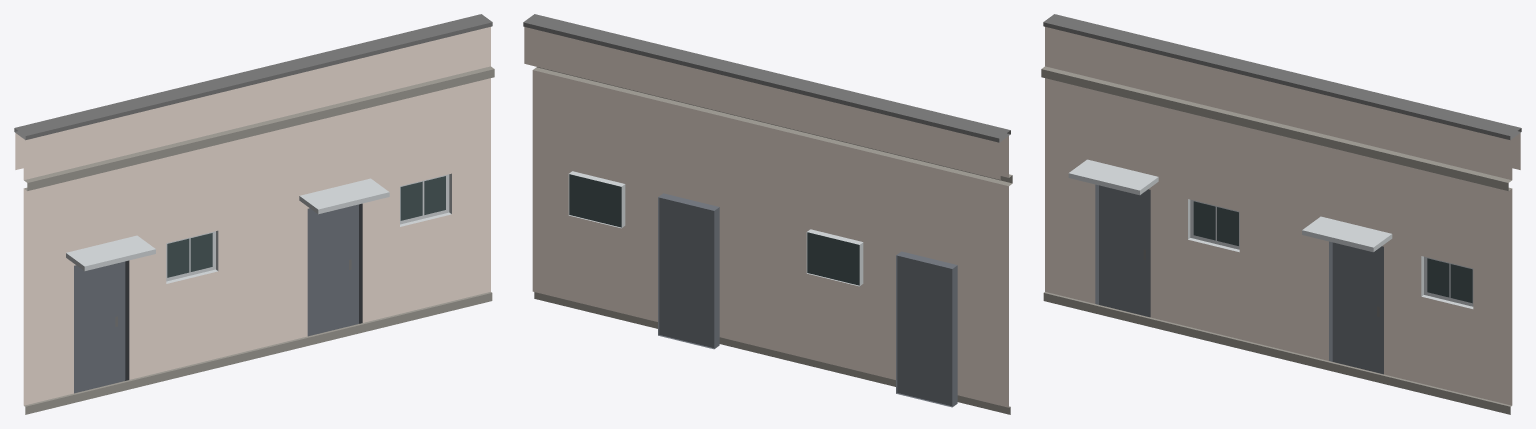
3 views of the same model, side by side, from view 1: azimuth 30°, elevation 25°; view 2: azimuth 150°, elevation 25°; view 3: azimuth 330°, elevation 25° (orthographic).
Parts seen in each view (by area): view 1: a2003/0/base-w3; view 2: a2003/0/base-w3; view 3: a2003/0/base-w3.
Part boxes in pixels (x1=…): a2003/0/base-w3: x1=14, y1=14, x2=494, y2=414; a2003/0/base-w3: x1=523, y1=14, x2=1012, y2=414; a2003/0/base-w3: x1=1041, y1=14, x2=1521, y2=414.
Size of the model in its own units: 7.2 by 4.11 by 0.75.
